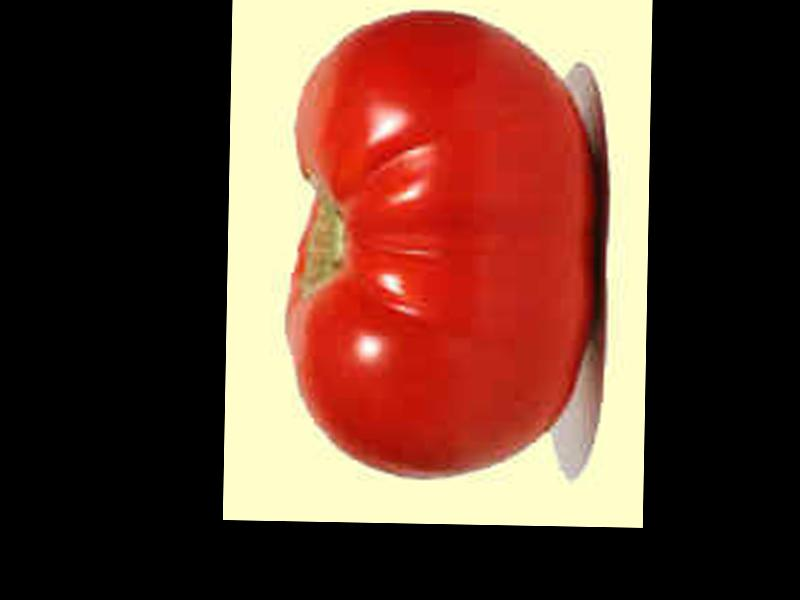Tomato: (282, 7, 597, 479)
